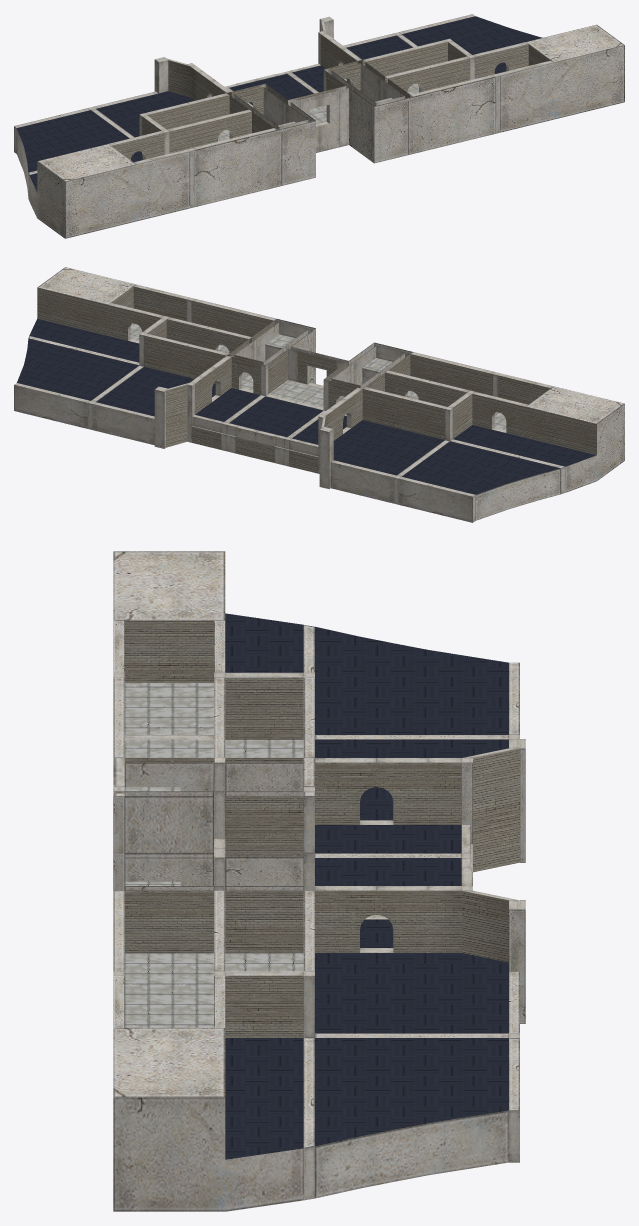
Rendered from SM_SYD_FirstFloor_Walls.fbx.
3 renders of one model, top to bottom at view 1: azimuth 30°, elevation 25°; view 2: azimuth 150°, elevation 25°; view 3: azimuth 270°, elevation 25°, orthographic. The views are drawn at different scales.
Visible parts, largest first — view 1: SM_SYD_FirstFloor_Walls; view 2: SM_SYD_FirstFloor_Walls; view 3: SM_SYD_FirstFloor_Walls.
Boxes of the visible parts, x1,y1,x2,y2 form: SM_SYD_FirstFloor_Walls: (14,14,624,238); SM_SYD_FirstFloor_Walls: (14,267,624,522); SM_SYD_FirstFloor_Walls: (113,551,525,1211).
Size of the model in its own units: 11536 by 1125 by 3680.
